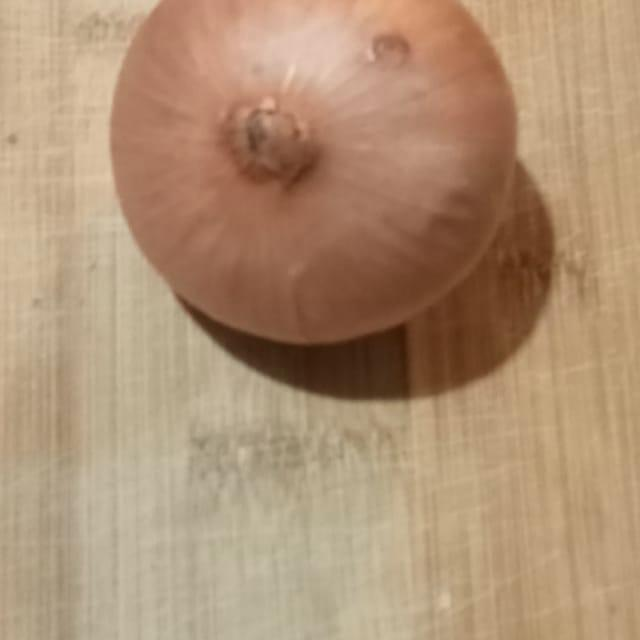onion: (28, 0, 578, 369)
